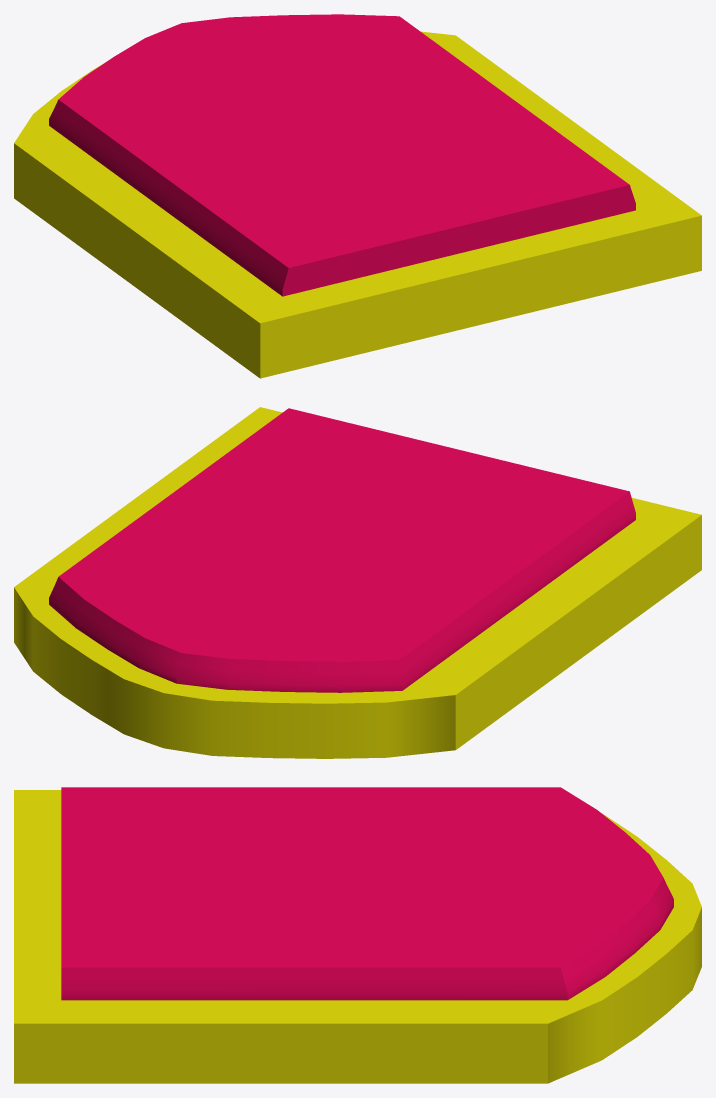
File: chair_seat_v4.fbx
3 views of the same model, one above another, from view 1: azimuth 30°, elevation 25°; view 2: azimuth 150°, elevation 25°; view 3: azimuth 270°, elevation 25° (orthographic). The views are drawn at different scales.
Visible parts, largest first — view 1: chair_base; view 2: chair_base; view 3: chair_base.
Boxes of the visible parts, bbox=[...] form: chair_base: bbox=[14, 14, 701, 378]; chair_base: bbox=[14, 407, 701, 758]; chair_base: bbox=[14, 787, 701, 1083].
Bounding box in the file's own units: 50 × 8.9 × 62.18.
